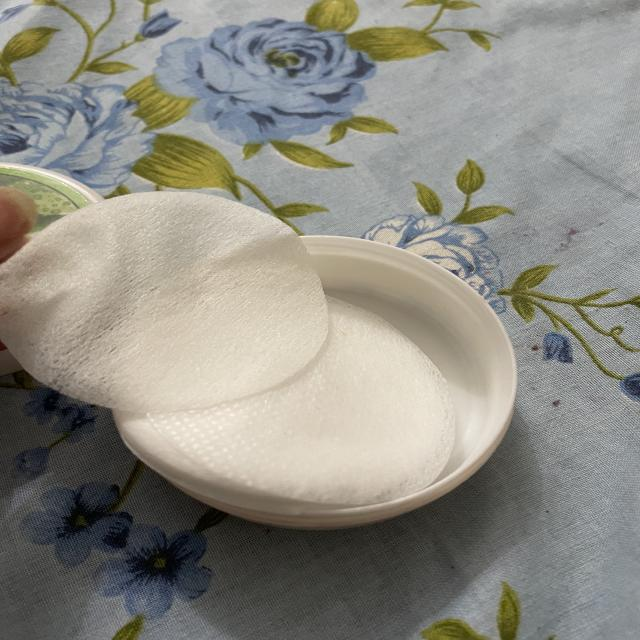nail polish remover: (0, 158, 527, 540)
